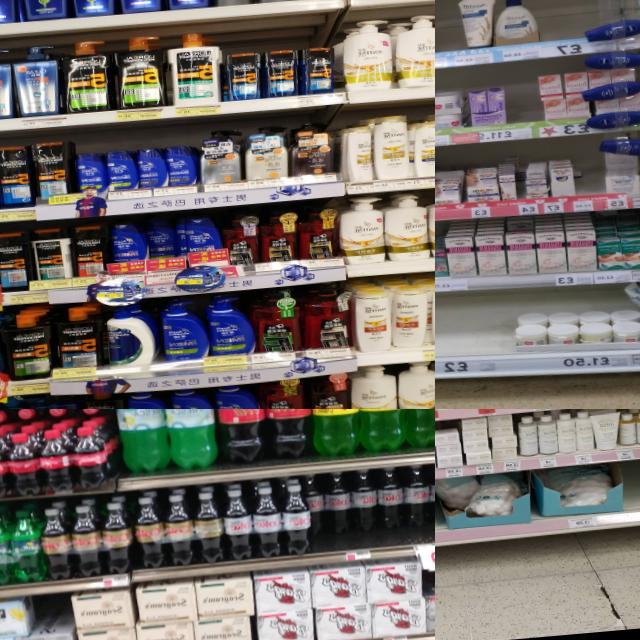100- O.O.S: (435, 294, 516, 379), (502, 64, 542, 140), (534, 0, 585, 57), (435, 0, 462, 69), (580, 154, 608, 212), (621, 457, 640, 522)
